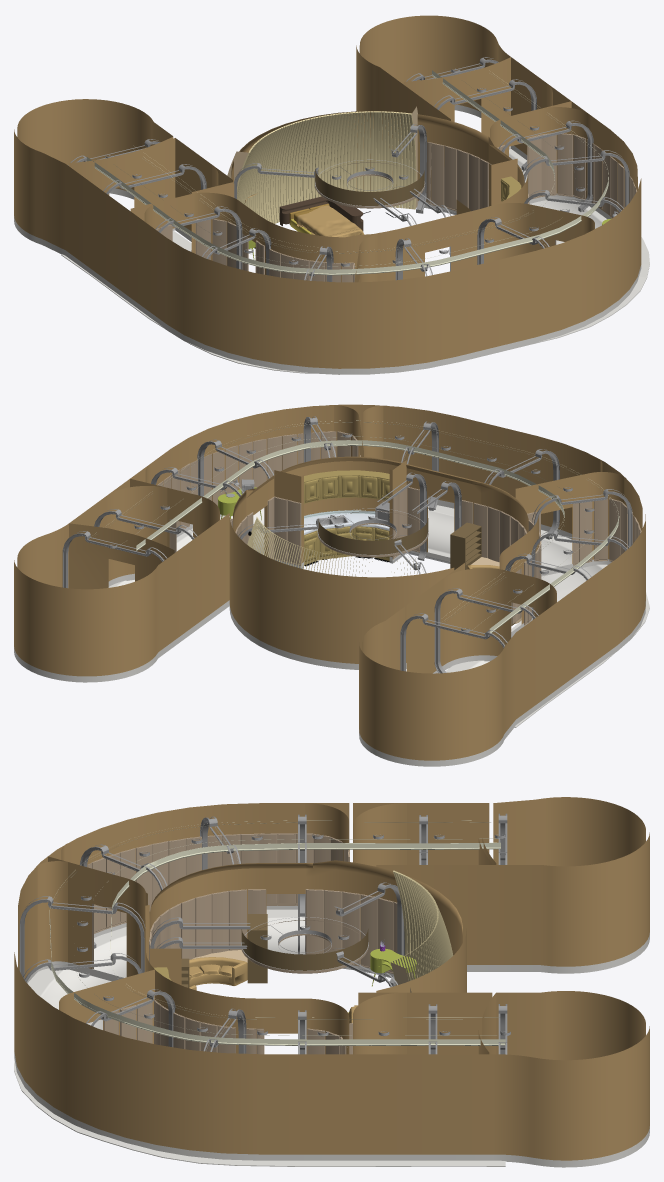
File: LevelLayout.glb
The picture shows the model from 3 angles, top to bottom: view 1: azimuth 30°, elevation 25°; view 2: azimuth 150°, elevation 25°; view 3: azimuth 270°, elevation 25°; orthographic projection. The views are drawn at different scales.
Visible parts, largest first — view 1: Obj_Layer:Wall, Box016, Box011, Object035, Object032, Box010, Object033, Object020, Object037, CentreRoomTribeam002, Object021, SkeletonBeam (+7 smaller); view 2: Obj_Layer:Wall, Box011, Box010, Object035, Object033, Object032, Box021, Object019, Box016, Object037, SkeletonBeam, Object023 (+8 smaller); view 3: Obj_Layer:Wall, Box011, Box010, Object033, Object032, Object035, Box016, Object037, Object023, Object027, Object022, CentreRoomTribeam002 (+10 smaller).
Part boxes in pixels (box(x1,y1,x2,y2)): Obj_Layer:Wall: box(14, 15, 641, 368); Box016: box(237, 111, 416, 223); Box011: box(156, 133, 636, 282); Object035: box(14, 104, 641, 374); Object032: box(86, 65, 608, 275); Box010: box(242, 142, 491, 271); Object033: box(61, 149, 649, 373); Object020: box(155, 120, 593, 269); Object037: box(315, 169, 424, 205); CentreRoomTribeam002: box(233, 124, 426, 213); Object021: box(202, 150, 629, 275); SkeletonBeam: box(103, 79, 536, 251); Obj_Layer:Wall: box(14, 404, 645, 760); Box011: box(157, 431, 641, 637); Box010: box(235, 487, 526, 624); Object035: box(14, 497, 645, 766); Object033: box(108, 505, 649, 727); Object032: box(90, 420, 619, 633); Box021: box(304, 470, 389, 503); Object019: box(62, 531, 507, 671); Box016: box(247, 517, 417, 576); Object037: box(318, 518, 428, 554); SkeletonBeam: box(94, 509, 538, 673); Object023: box(401, 421, 559, 539); Obj_Layer:Wall: box(14, 797, 649, 1160); Box011: box(87, 833, 349, 1054); Box010: box(149, 889, 397, 1054); Object033: box(14, 909, 505, 1166); Object032: box(49, 820, 505, 1045); Object035: box(14, 905, 649, 1167); Box016: box(390, 870, 453, 985); Object037: box(241, 929, 368, 970); Object023: box(19, 896, 145, 982); Object027: box(189, 957, 247, 990); Object022: box(80, 844, 175, 1047); CentreRoomTribeam002: box(334, 882, 404, 986).
Size of the model in its own units: 143 by 29.97 by 145.
